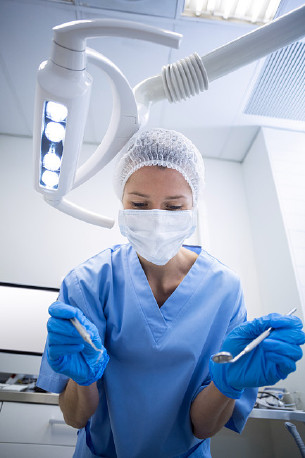face_mask: (122, 162, 193, 264)
